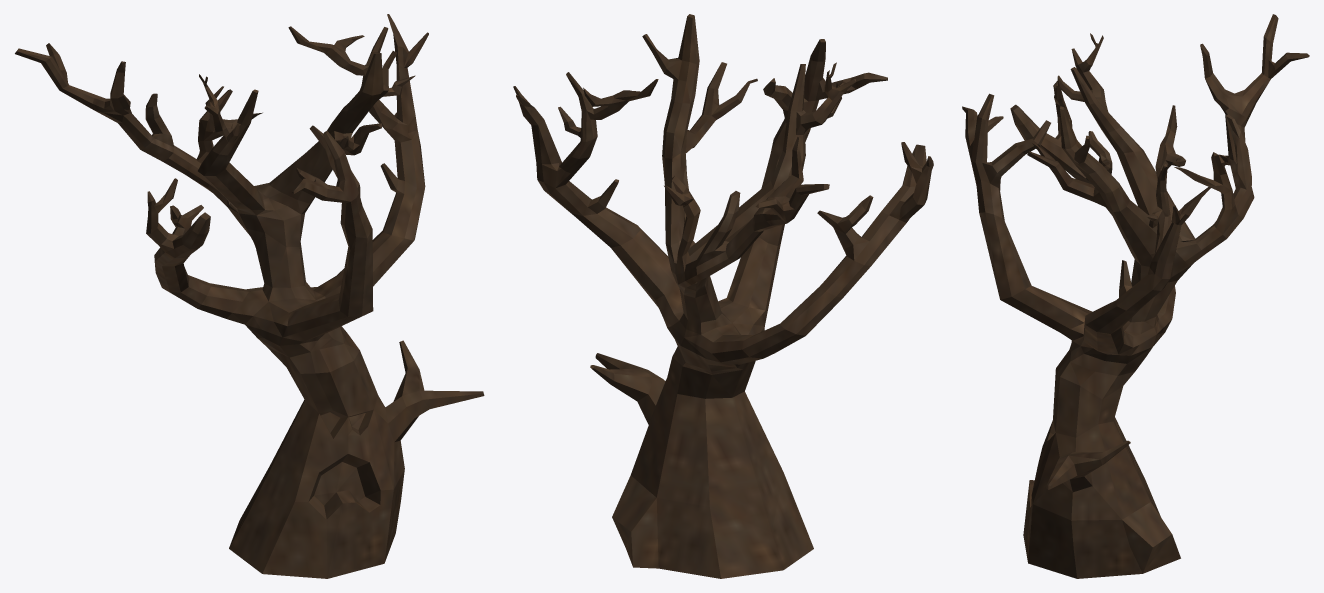
File: Tree11.fbx
3 views of the same model, side by side, from view 1: azimuth 30°, elevation 25°; view 2: azimuth 150°, elevation 25°; view 3: azimuth 270°, elevation 25° (orthographic). The views are drawn at different scales.
Parts seen in each view (by area): view 1: tree_11; view 2: tree_11; view 3: tree_11.
Part boxes in pixels (x1=…): tree_11: x1=15, y1=14, x2=484, y2=578; tree_11: x1=513, y1=14, x2=933, y2=578; tree_11: x1=962, y1=14, x2=1309, y2=578.
Bounding box in the file's own units: 5.95 × 7.86 × 5.34.
